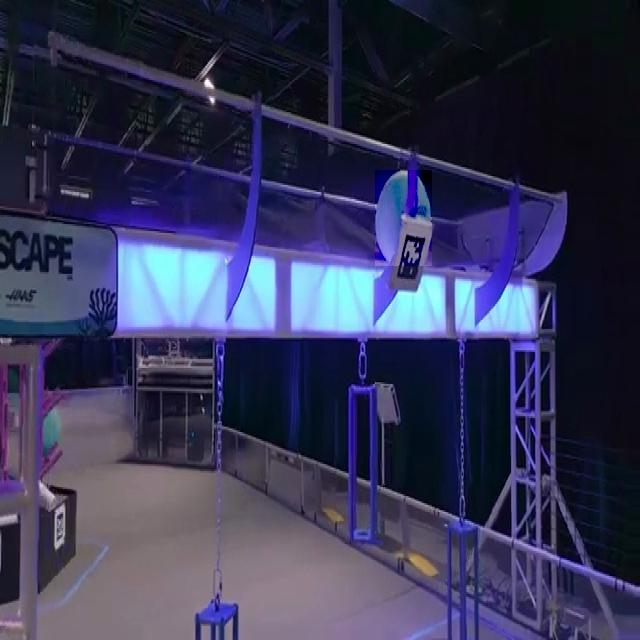Algae: (375, 170, 432, 266)
